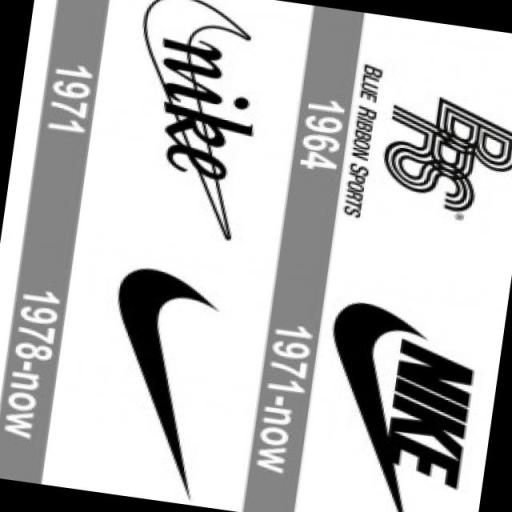Nike: (88, 261, 225, 496), (379, 340, 479, 492)
